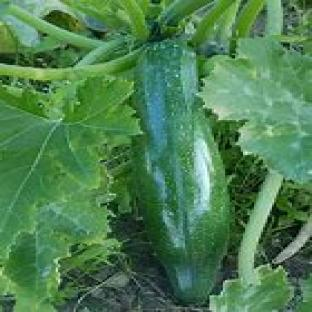Zucchini: (134, 41, 229, 301)
